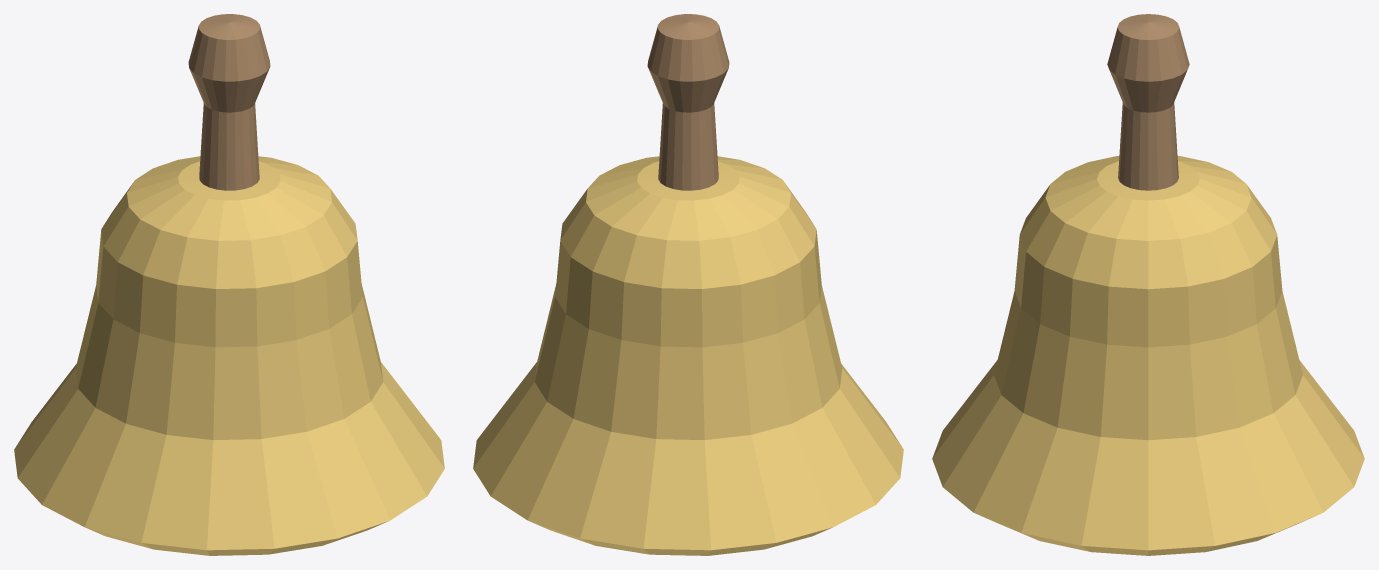
Rendered from clochette.glb.
3 renders of one model, left to right at view 1: azimuth 30°, elevation 25°; view 2: azimuth 150°, elevation 25°; view 3: azimuth 270°, elevation 25°, orthographic.
Parts seen in each view (by area): view 1: cloche; view 2: cloche; view 3: cloche.
Boxes of the visible parts, x1=… form: cloche: x1=14, y1=14, x2=444, y2=555; cloche: x1=473, y1=14, x2=903, y2=555; cloche: x1=932, y1=14, x2=1364, y2=555.
Bounding box in the file's own units: 0.84 × 1.1 × 0.84.
